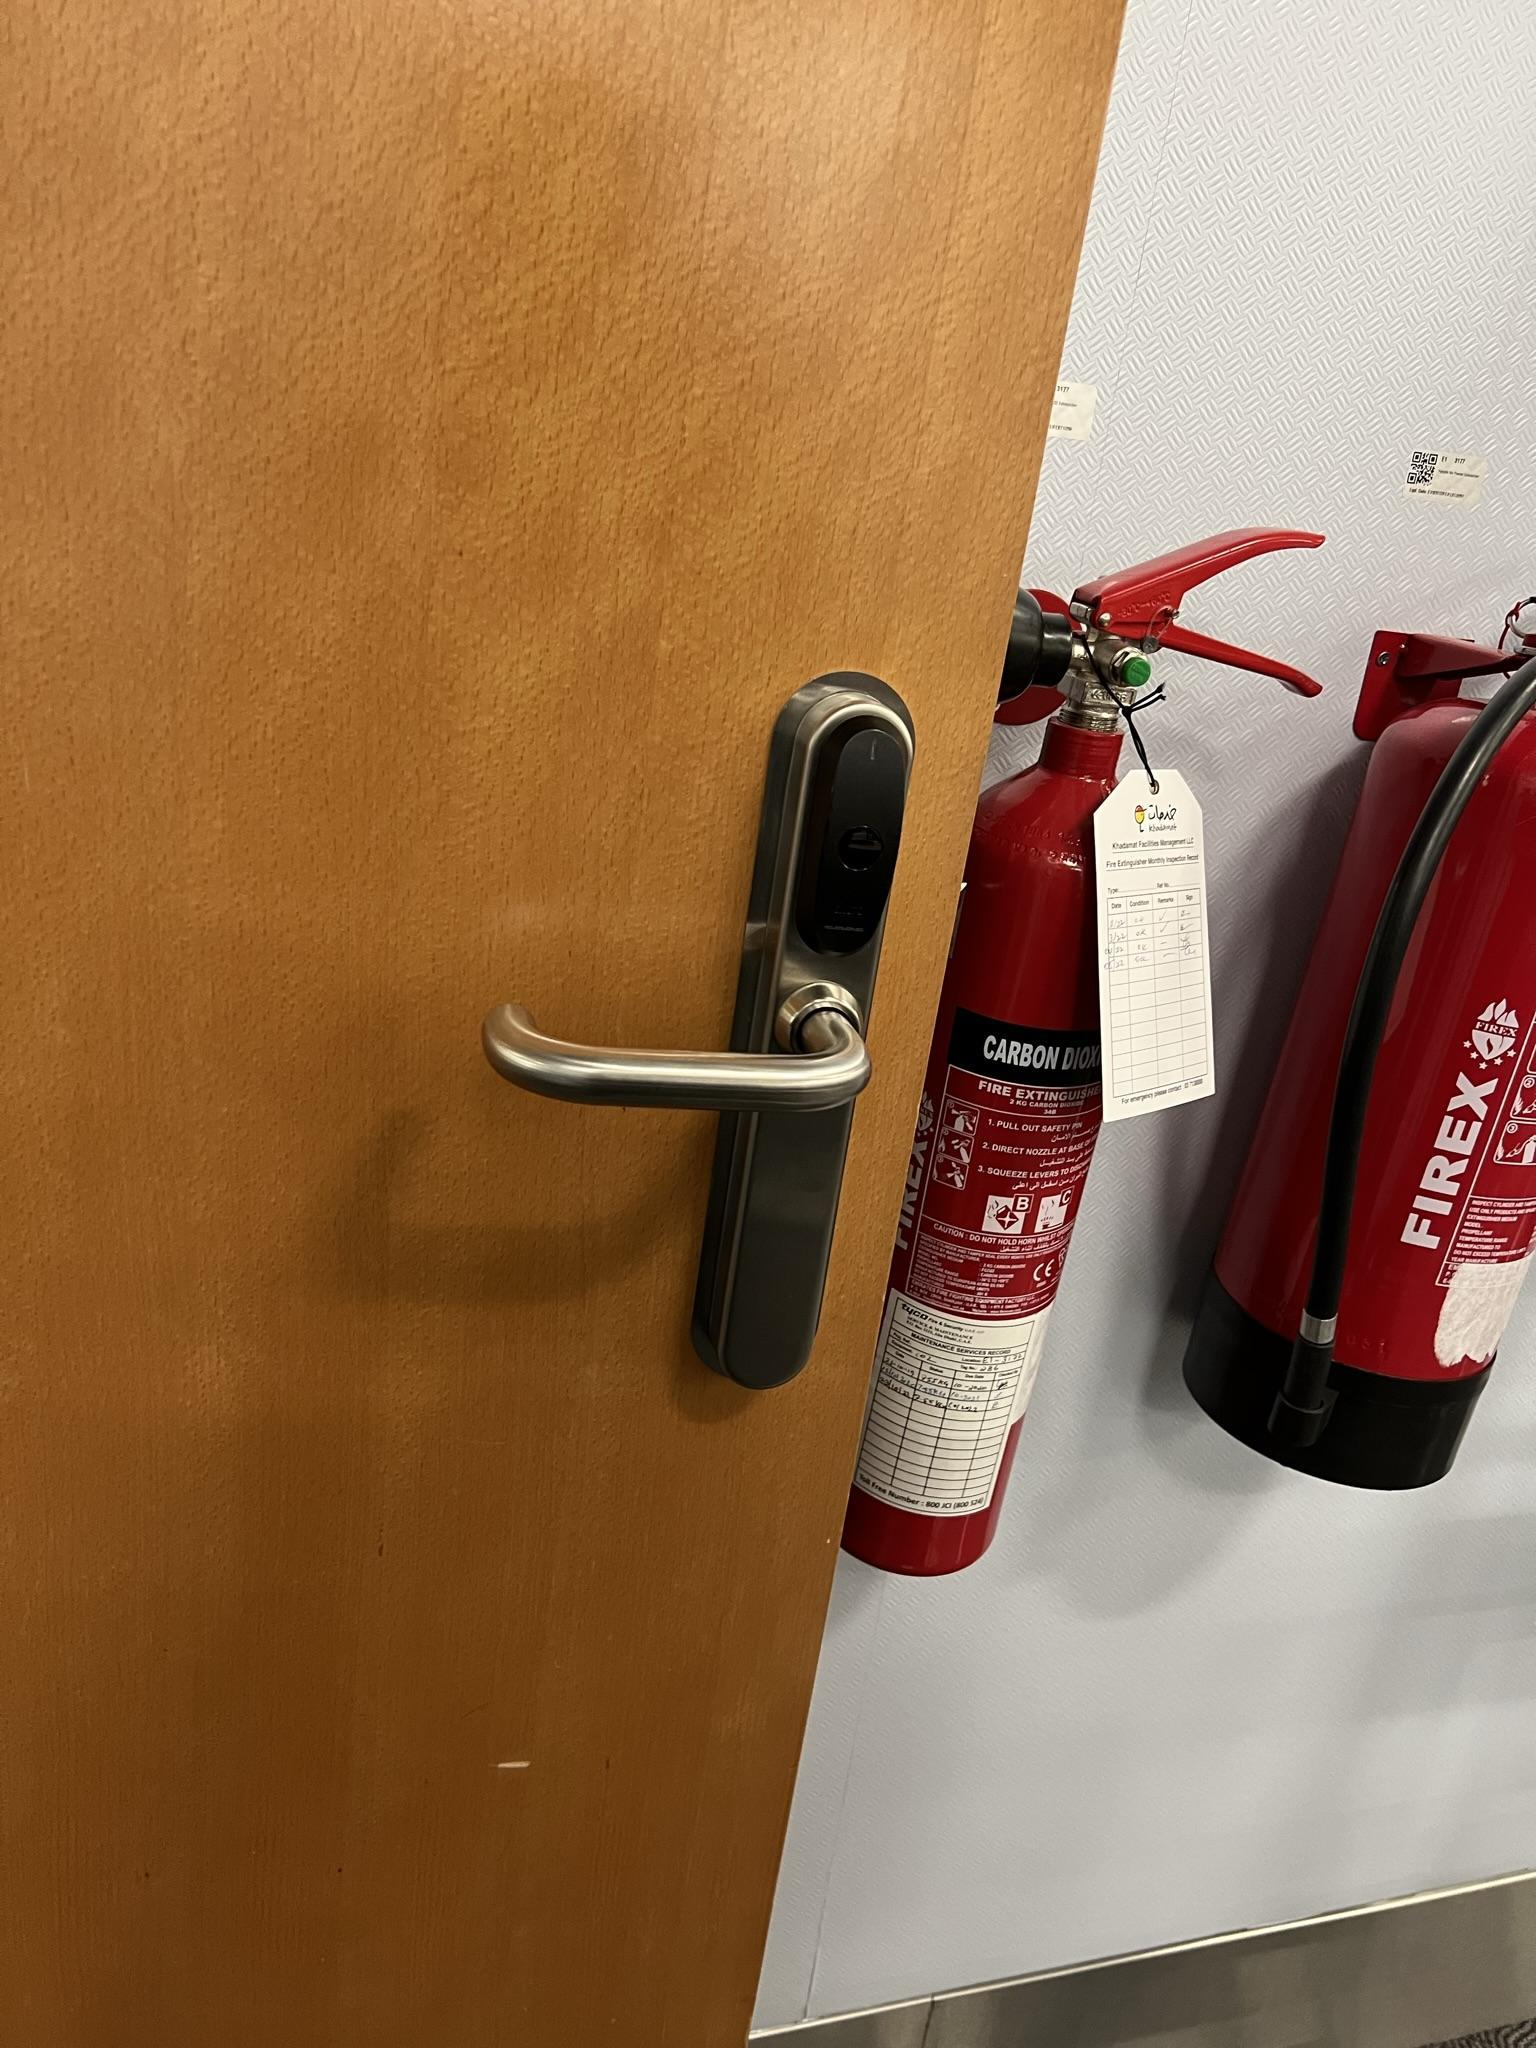handle: (478, 640, 929, 1398)
